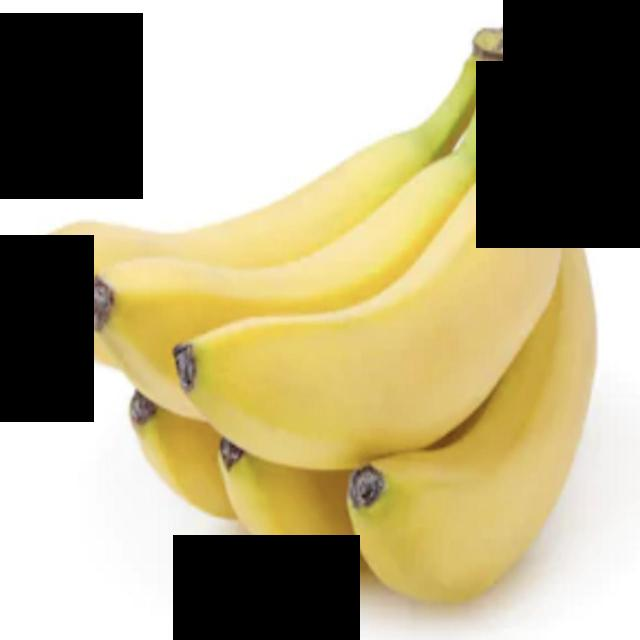banana: (124, 49, 590, 449)
